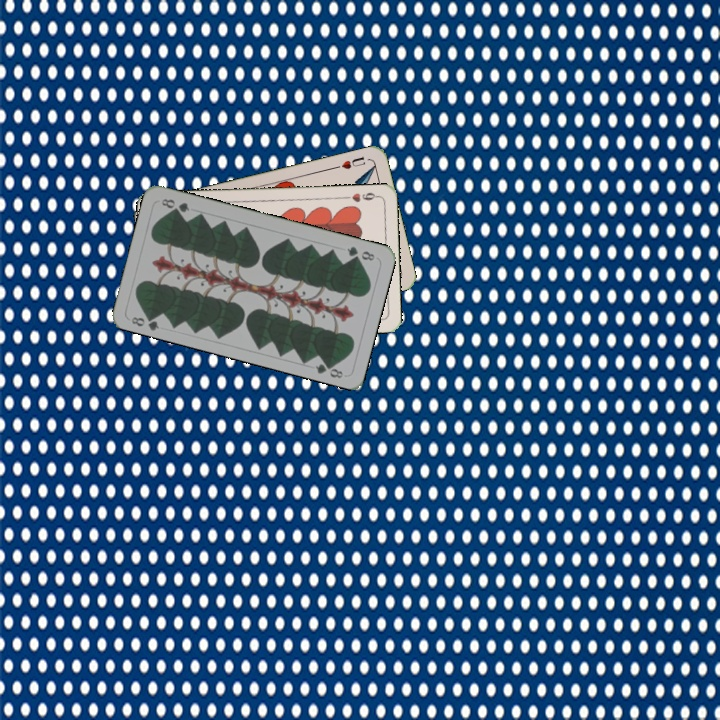G8: (127, 310, 162, 333), (343, 242, 377, 263)
H9: (340, 188, 381, 205)
HU: (331, 152, 368, 172)
